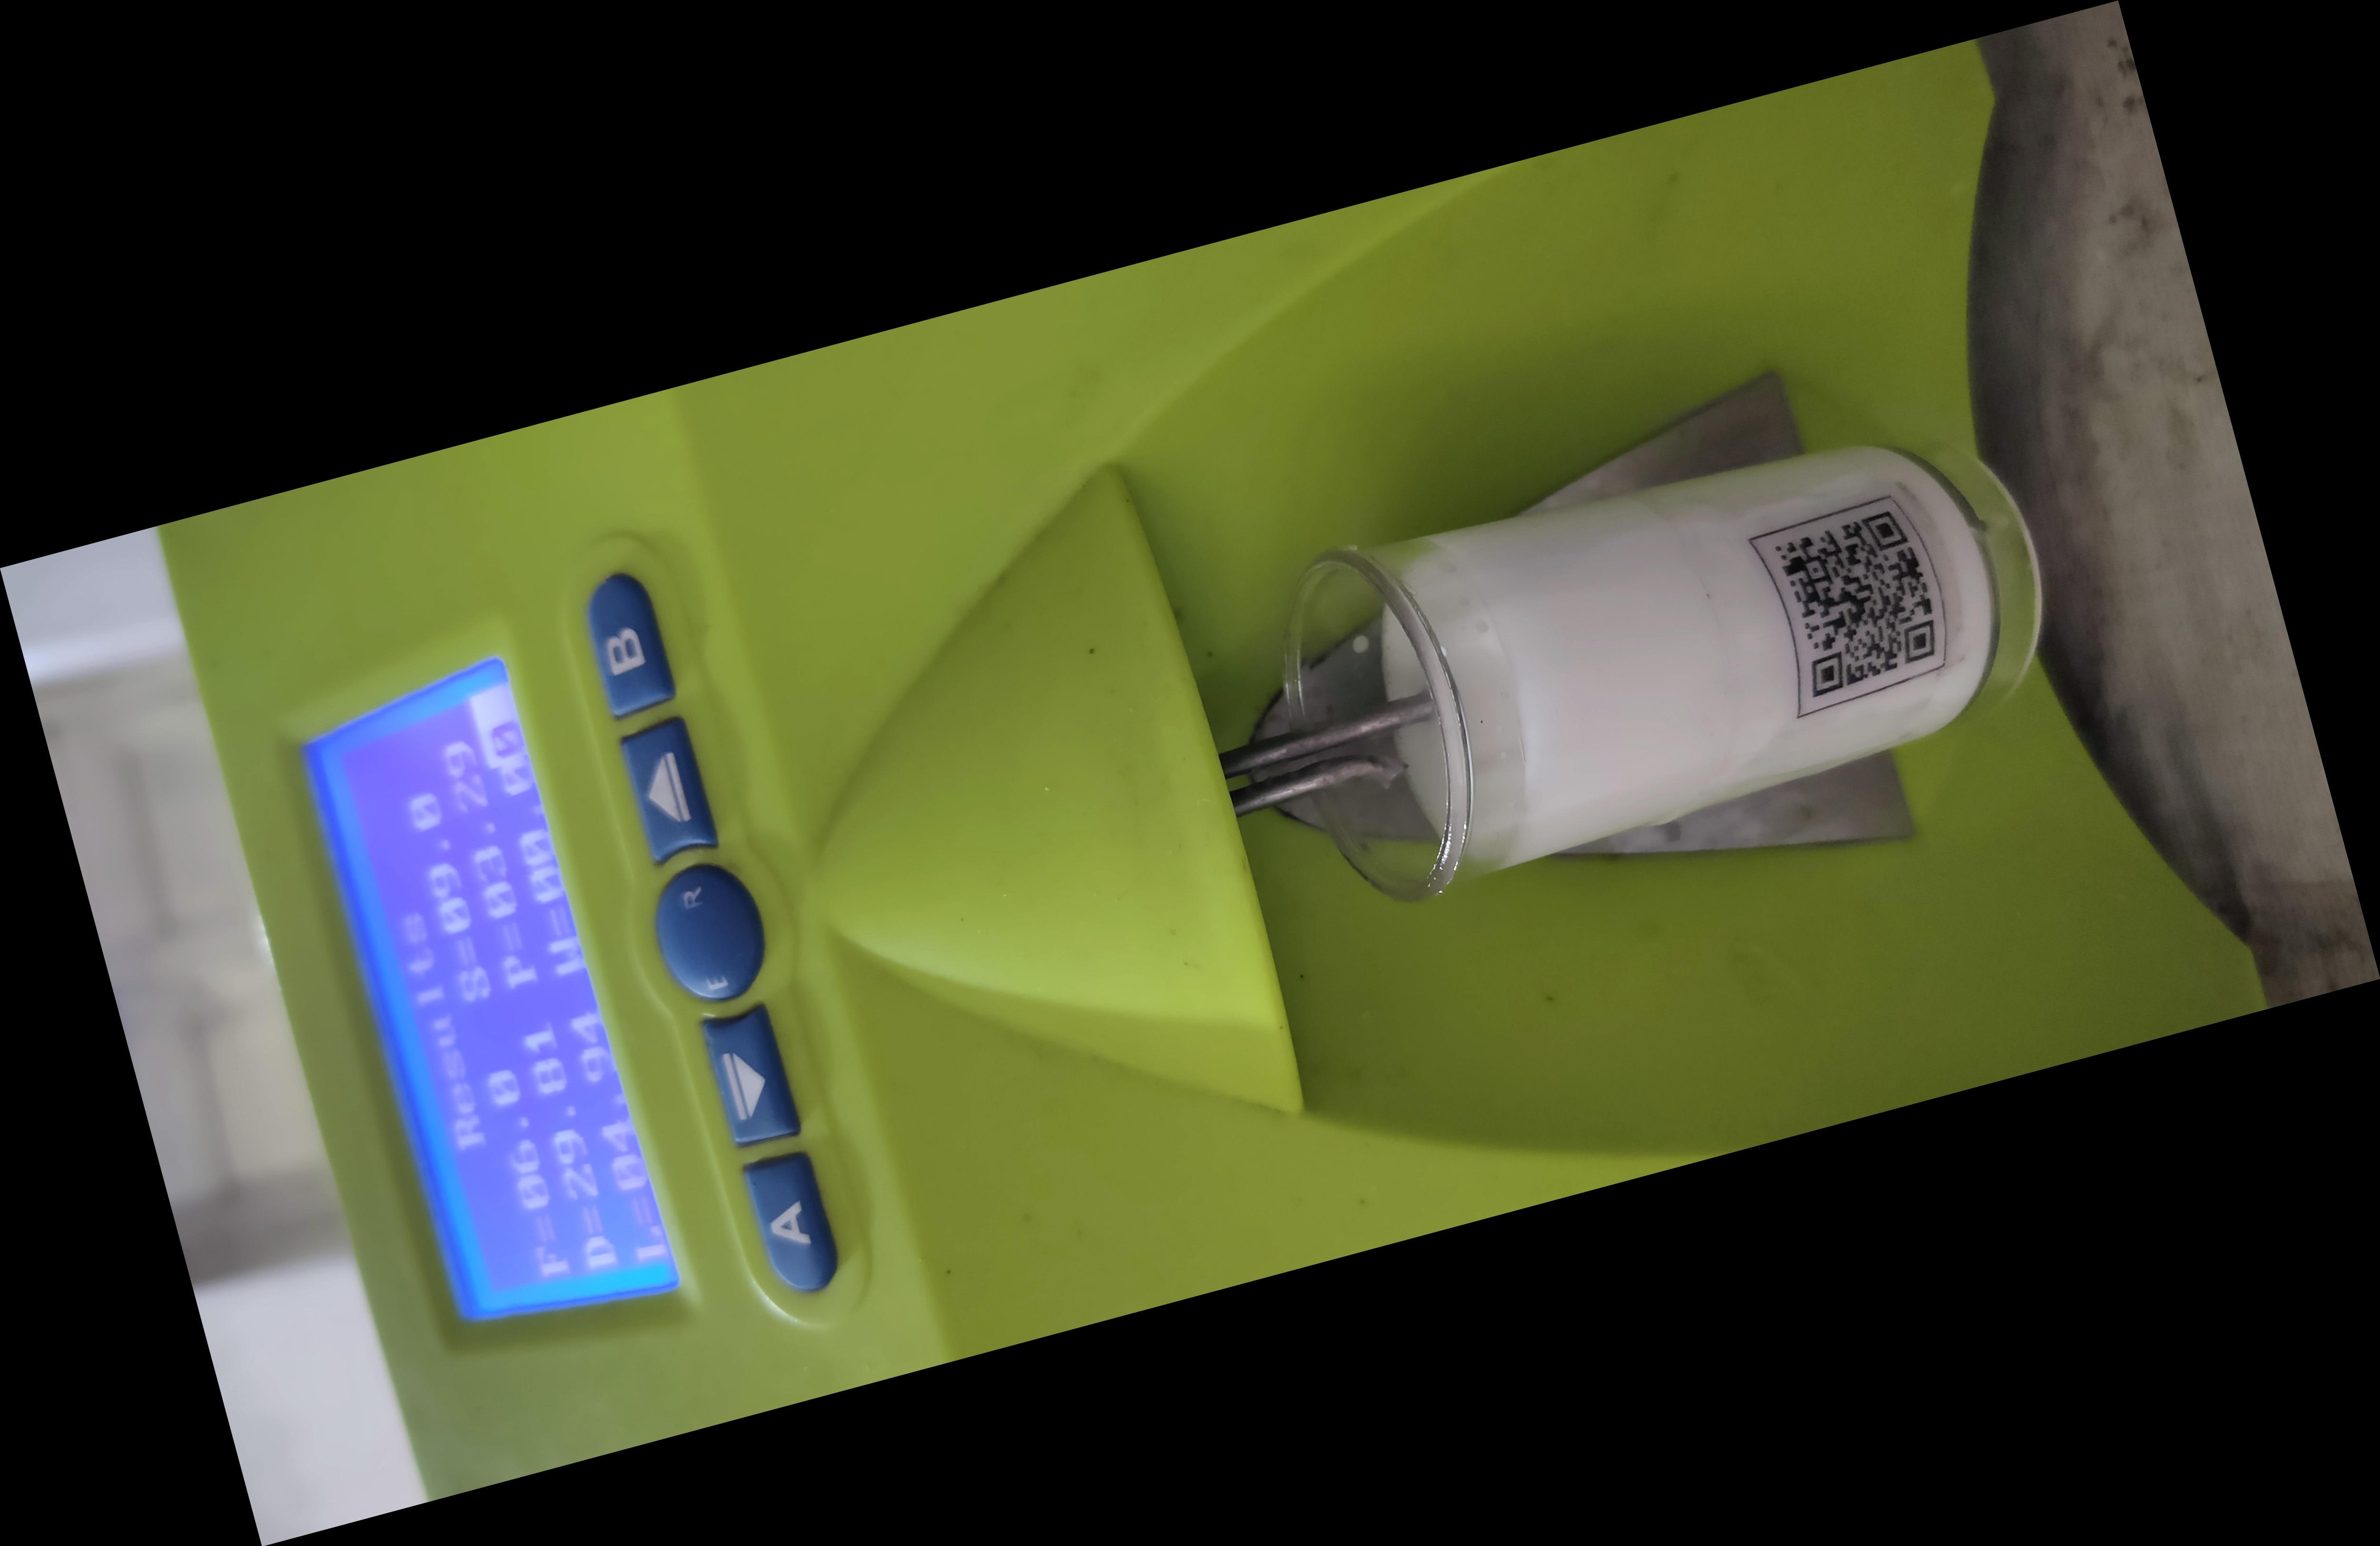lcd: (283, 649, 715, 1385)
qr: (1724, 481, 1967, 713)
